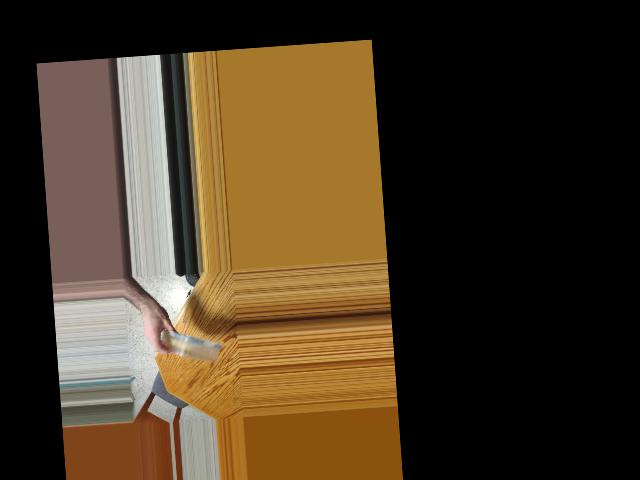cheese: (154, 332, 224, 361)
